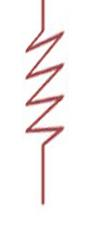resistor: (15, 14, 72, 149)
